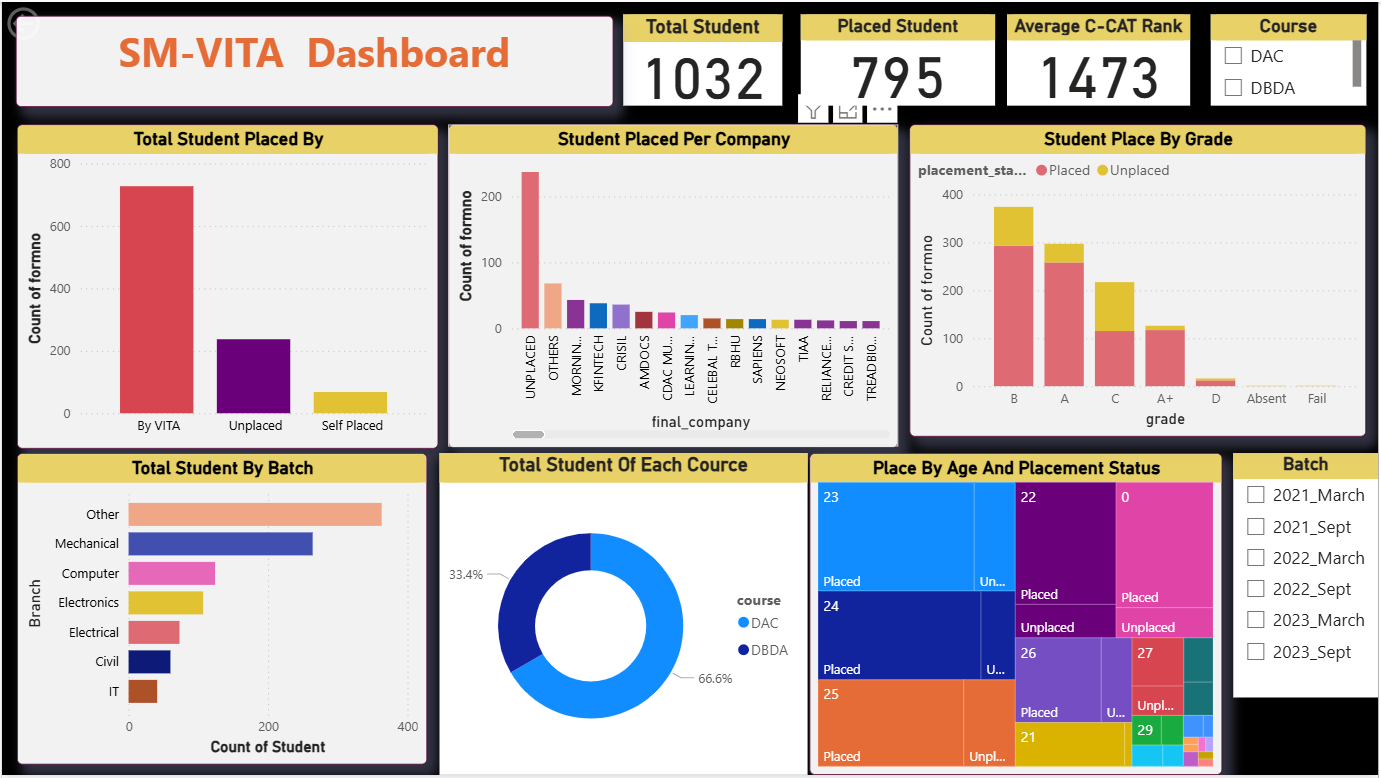

What the dashboard file says about the page in this screenshot:
{"tool":"powerbi","page":{"name":"Page 1","canvas":[1280,720],"ordinal":0},"visuals":[{"type":"card","title":"Total Student","fields":{"Values":["CountNonNull(SM VITA DV.prn)"]},"box":[577.9,12.1,148.4,84.5],"z":0},{"type":"clusteredColumnChart","title":"Total Student Placed By","fields":{"Category":["SM VITA DV.placed_by"],"Y":["CountNonNull(SM VITA DV.formno)"]},"box":[14.5,113.4,392.1,301.6],"z":1000},{"type":"clusteredBarChart","title":"Total Student By Batch","fields":{"Category":["SM VITA DV.branch"],"Y":["CountNonNull(SM VITA DV.formno)"]},"box":[14.5,419.8,381.2,289.5],"z":2000},{"type":"columnChart","title":"Student Placed  Per Company","fields":{"Category":["SM VITA DV.fi0l_company"],"Y":["CountNonNull(SM VITA DV.formno)"]},"box":[415,113.4,418.6,300.4],"z":3000},{"type":"treemap","title":"Place By Age And Placement Status","fields":{"Group":["SM VITA DV.age"],"Details":["SM VITA DV.placement_status"],"Values":["CountNonNull(SM VITA DV.formno)"]},"box":[751.6,419.8,383.6,299.2],"z":4000},{"type":"actionButton","box":[0,0,100,40],"z":5000},{"type":"slicer","title":"Batch","fields":{"Values":["SM VITA DV.batch"]},"box":[1144.9,419.8,135.1,226.8],"z":6000},{"type":"slicer","title":"Course","fields":{"Values":["SM VITA DV.course"]},"box":[1124.4,12.1,144.8,84.5],"z":7000},{"type":"card","title":"Average C-CAT Rank","fields":{"Values":["Avg(SM VITA DV.ccat_rank)"]},"box":[935,12.1,170.1,84.5],"z":8000},{"type":"columnChart","title":"Student Place By Grade ","fields":{"Category":["SM VITA DV.grade"],"Y":["CountNonNull(SM VITA DV.formno)"],"Series":["SM VITA DV.placement_status"]},"box":[844.5,113.4,424.7,290.8],"z":9000},{"type":"donutChart","title":"Total Student Of Each Cource","fields":{"Category":["SM VITA DV.course"],"Y":["Sum(SM VITA DV.formno)"]},"box":[406.6,419.8,342.6,299.2],"z":10000},{"type":"card","title":"Placed Student","fields":{"Values":["CountNonNull(SM VITA DV.placement_status)"]},"box":[743.2,12.1,181,84.5],"z":11000},{"type":"textbox","box":[13.3,13.3,556.2,84.5],"z":12000}]}

Visuals, with their boxes in screenshot pixels (x1, y1, x2, y2), scaled from the page's 1280x720 canvas onto the 1381x778 screenshot:
"Total Student" card: 623, 13, 784, 104
"Total Student Placed By" clusteredColumnChart: 16, 123, 439, 448
"Total Student By Batch" clusteredBarChart: 16, 454, 427, 766
"Student Placed  Per Company" columnChart: 448, 123, 899, 447
"Place By Age And Placement Status" treemap: 811, 454, 1225, 777
actionButton: 0, 0, 108, 43
"Batch" slicer: 1235, 454, 1380, 699
"Course" slicer: 1213, 13, 1369, 104
"Average C-CAT Rank" card: 1009, 13, 1192, 104
"Student Place By Grade " columnChart: 911, 123, 1369, 437
"Total Student Of Each Cource" donutChart: 439, 454, 808, 777
"Placed Student" card: 802, 13, 997, 104
textbox: 14, 14, 614, 106
